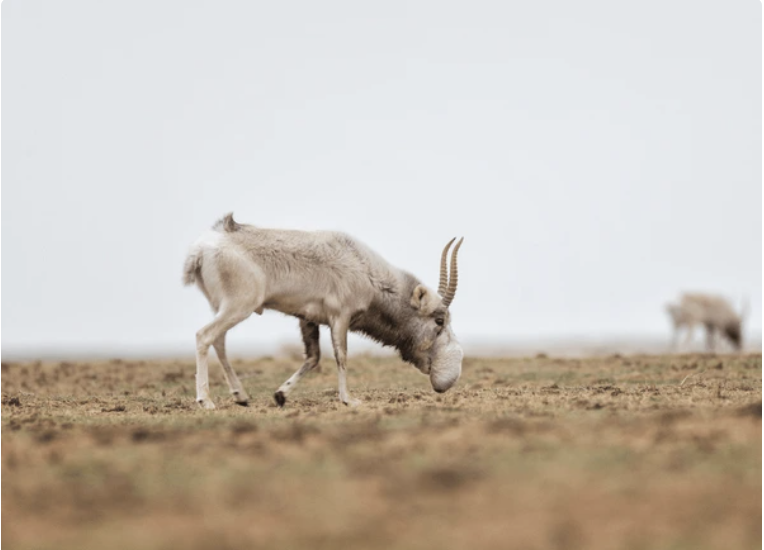saiga: (175, 201, 468, 409)
